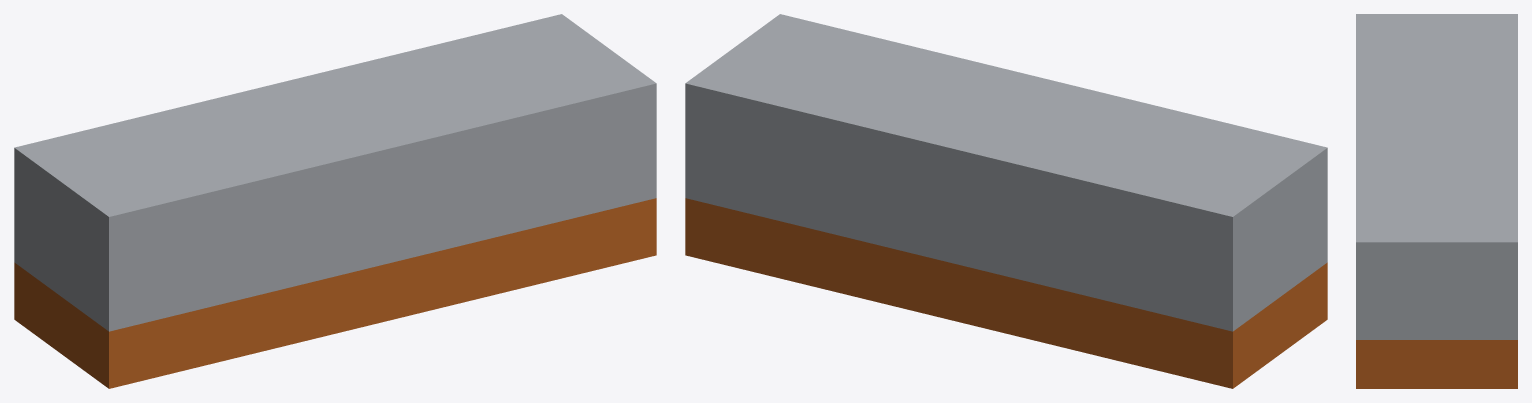
Rendered from Kit_wall-door-center.fbx.
3 renders of one model, left to right at view 1: azimuth 30°, elevation 25°; view 2: azimuth 150°, elevation 25°; view 3: azimuth 270°, elevation 25°, orthographic. The views are drawn at different scales.
Parts seen in each view (by area): view 1: Kit_wall-door-center; view 2: Kit_wall-door-center; view 3: Kit_wall-door-center.
Boxes of the visible parts, bbox=[...] form: Kit_wall-door-center: bbox=[14, 14, 656, 388]; Kit_wall-door-center: bbox=[685, 14, 1327, 388]; Kit_wall-door-center: bbox=[1356, 14, 1517, 388].
Size of the model in its own units: 1 by 0.3 by 0.3.
